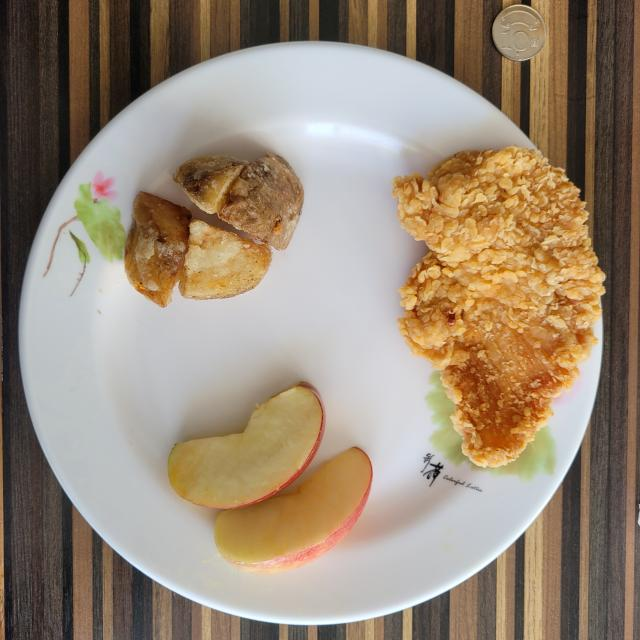apple -sliced-: (168, 382, 372, 574)
coin: (492, 5, 546, 61)
fried chicken cutlet: (392, 146, 605, 468)
fried potato: (125, 154, 304, 308)
